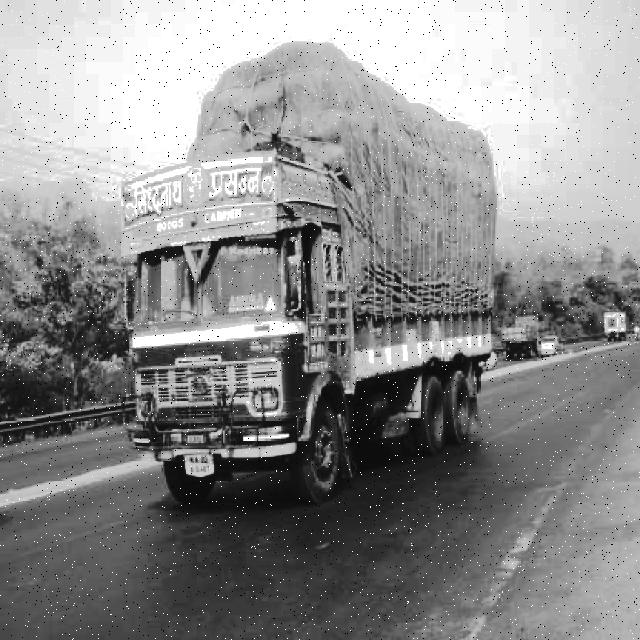HCV: (148, 96, 502, 442)
